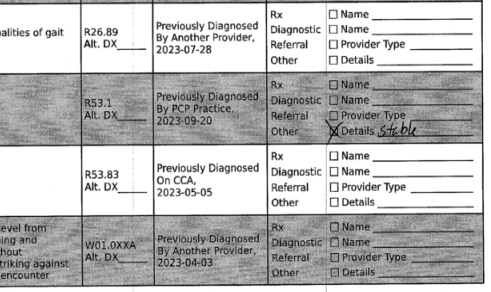checked: (324, 120, 342, 142)
